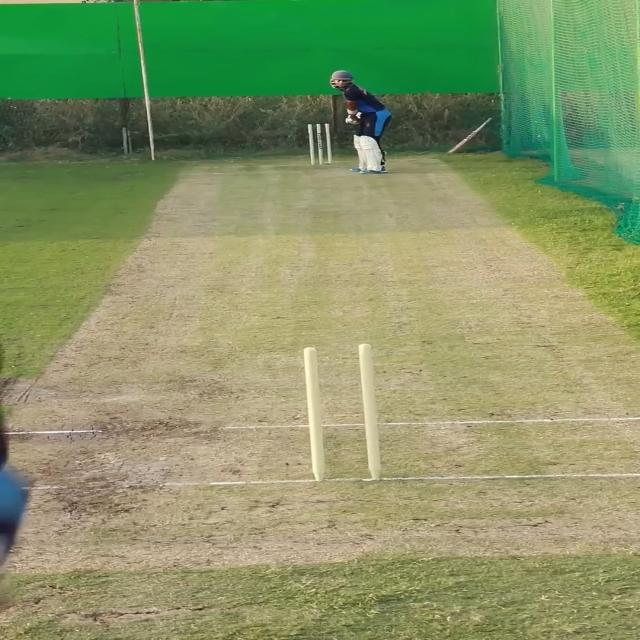stump: (302, 342, 384, 482), (307, 122, 333, 166)
